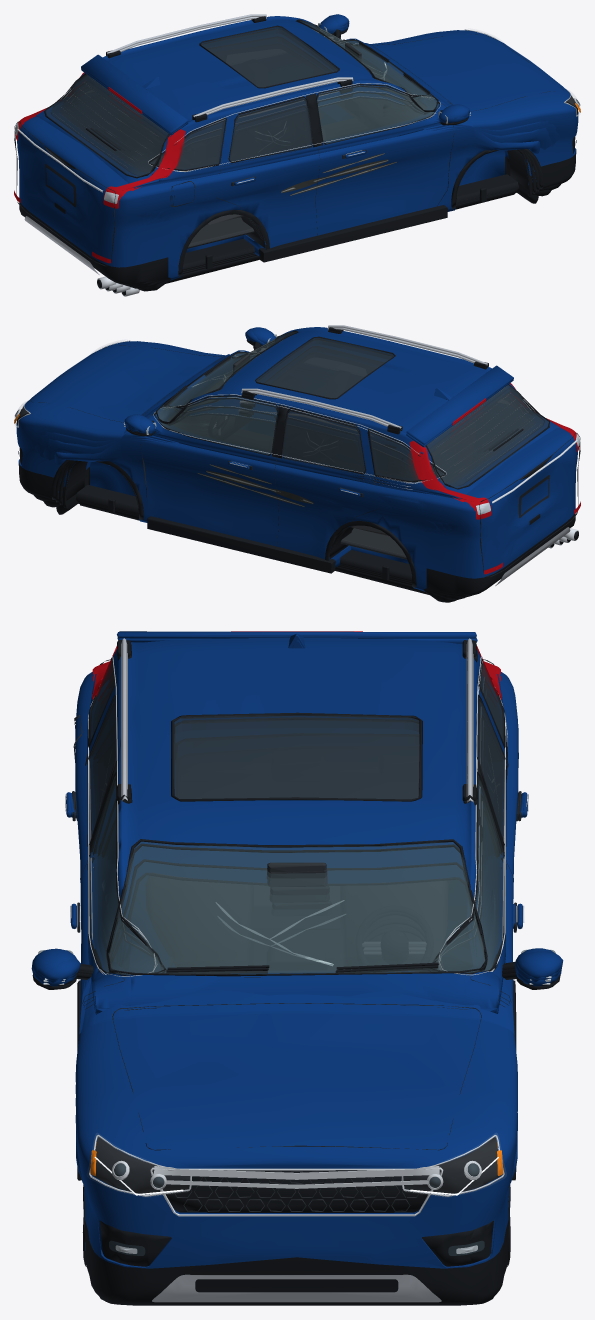
The model's file is honda_crv_damage.glb.
3 views of the same model, one above another, from view 1: azimuth 30°, elevation 25°; view 2: azimuth 150°, elevation 25°; view 3: azimuth 270°, elevation 25° (orthographic). The views are drawn at different scales.
Parts seen in each view (by area): view 1: ScuffedBodyPaint, ScuffedGlazing, DentedGlazing, ScuffedRubberTrimAndUnderbody, BatteredBodyPaint, BatteredRubberTrimAndUnderbody, ScuffedMetalwork, DentedBodyPaint, CrumpledBodyPaint, DentedRubberTrimAndUnderbody, ScuffedRearBrakeLights, CrumpledRubberTrimAndUnderbody (+4 smaller); view 2: ScuffedBodyPaint, ScuffedGlazing, DentedGlazing, ScuffedRubberTrimAndUnderbody, BatteredBodyPaint, BatteredRubberTrimAndUnderbody, CrumpledBodyPaint, ScuffedMetalwork, DentedBodyPaint, DentedRubberTrimAndUnderbody, ScuffedRearBrakeLights, CrumpledRubberTrimAndUnderbody (+4 smaller); view 3: ScuffedBodyPaint, ScuffedGlazing, DentedGlazing, ScuffedRubberTrimAndUnderbody, BatteredBodyPaint, ScuffedMetalwork, CrumpledBodyPaint, DentedBodyPaint, DentedRubberTrimAndUnderbody, BatteredGlazing, BatteredRubberTrimAndUnderbody, CrumpledRubberTrimAndUnderbody (+6 smaller).
Part boxes in pixels (x1,y1,x2,y2): ScuffedBodyPaint: (17,16,578,277); ScuffedGlazing: (46,21,433,176); DentedGlazing: (51,24,434,175); ScuffedRubberTrimAndUnderbody: (14,16,577,288); BatteredBodyPaint: (156,14,540,280); BatteredRubberTrimAndUnderbody: (121,29,538,295); ScuffedMetalwork: (17,14,580,289); DentedBodyPaint: (56,17,560,277); CrumpledBodyPaint: (84,22,551,278); DentedRubberTrimAndUnderbody: (51,20,560,290); ScuffedRearBrakeLights: (14,72,185,263); CrumpledRubberTrimAndUnderbody: (65,34,551,292); ScuffedBodyPaint: (16,327,577,588); ScuffedGlazing: (164,332,548,488); DentedGlazing: (162,336,543,486); ScuffedRubberTrimAndUnderbody: (17,327,580,595); BatteredBodyPaint: (54,329,509,591); BatteredRubberTrimAndUnderbody: (56,339,554,602); CrumpledBodyPaint: (43,336,509,589); ScuffedMetalwork: (14,325,578,585); DentedBodyPaint: (34,327,538,588); DentedRubberTrimAndUnderbody: (33,330,570,597); ScuffedRearBrakeLights: (409,383,580,574); CrumpledRubberTrimAndUnderbody: (43,338,563,599); ScuffedBodyPaint: (31,631,561,1268); ScuffedGlazing: (89,661,504,971); DentedGlazing: (90,665,504,973); ScuffedRubberTrimAndUnderbody: (32,640,560,1305); BatteredBodyPaint: (37,728,563,1189); ScuffedMetalwork: (38,638,528,1302); CrumpledBodyPaint: (47,676,562,1172); DentedBodyPaint: (32,637,558,1150); DentedRubberTrimAndUnderbody: (33,644,559,1020); BatteredGlazing: (115,914,489,974); BatteredRubberTrimAndUnderbody: (73,680,560,1180); CrumpledRubberTrimAndUnderbody: (61,684,560,1179).
Bounding box in the file's own units: 4.61 × 1.58 × 2.2.
